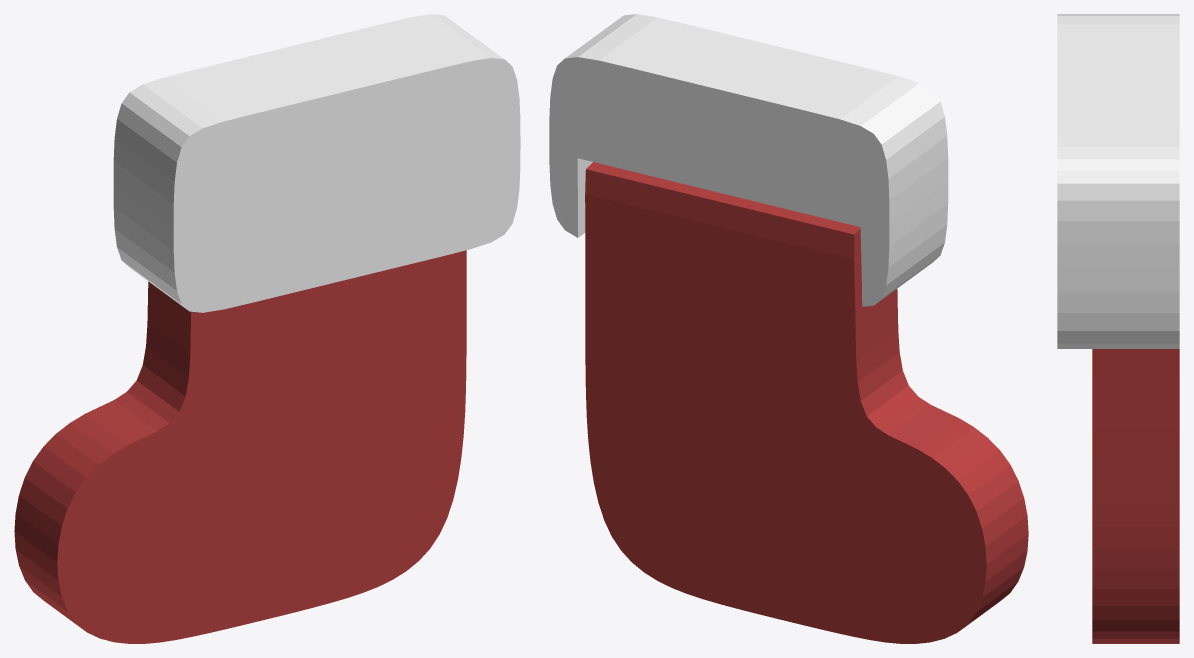
Rendered from socks.glb.
3 views of the same model, side by side, from view 1: azimuth 30°, elevation 25°; view 2: azimuth 150°, elevation 25°; view 3: azimuth 270°, elevation 25° (orthographic). The views are drawn at different scales.
Parts seen in each view (by area): view 1: Plane.029, Plane.030; view 2: Plane.029, Plane.030; view 3: Plane.030, Plane.029.
Boxes of the visible parts, x1,y1,x2,y2 form: Plane.029: (14, 250, 466, 643); Plane.030: (113, 14, 520, 312); Plane.029: (585, 162, 1028, 643); Plane.030: (549, 14, 948, 306); Plane.030: (1057, 14, 1179, 348); Plane.029: (1092, 349, 1179, 643).
Size of the model in its own units: 15.01 by 16.89 by 3.5.
